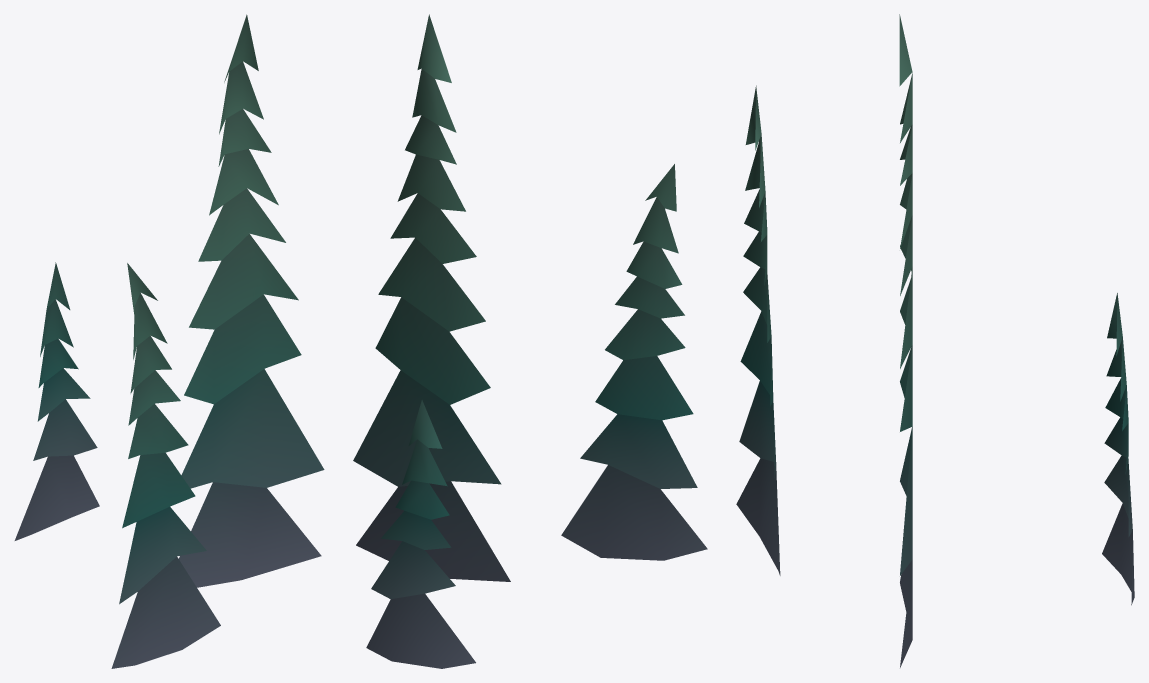
Rendered from Prop-distance_spruces_02.glb.
3 views of the same model, side by side, from view 1: azimuth 30°, elevation 25°; view 2: azimuth 150°, elevation 25°; view 3: azimuth 270°, elevation 25° (orthographic). The views are drawn at different scales.
Visible parts, largest first — view 1: Prop-distance_spruces_02; view 2: Prop-distance_spruces_02; view 3: Prop-distance_spruces_02.
Boxes of the visible parts, left/top/right/bottom form: Prop-distance_spruces_02: left=14, top=14, right=324, bottom=668; Prop-distance_spruces_02: left=353, top=14, right=707, bottom=668; Prop-distance_spruces_02: left=736, top=14, right=1134, bottom=667.
Bounding box in the file's own units: 9.02 × 17.1 × 9.86.
